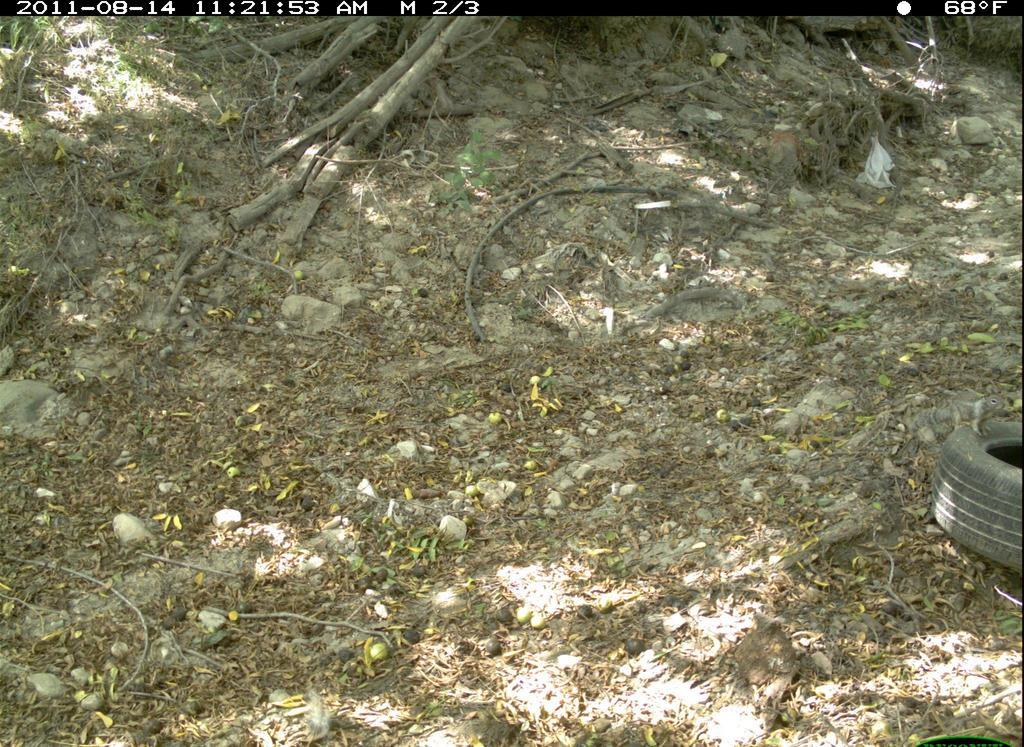squirrel: (914, 386, 1013, 446)
